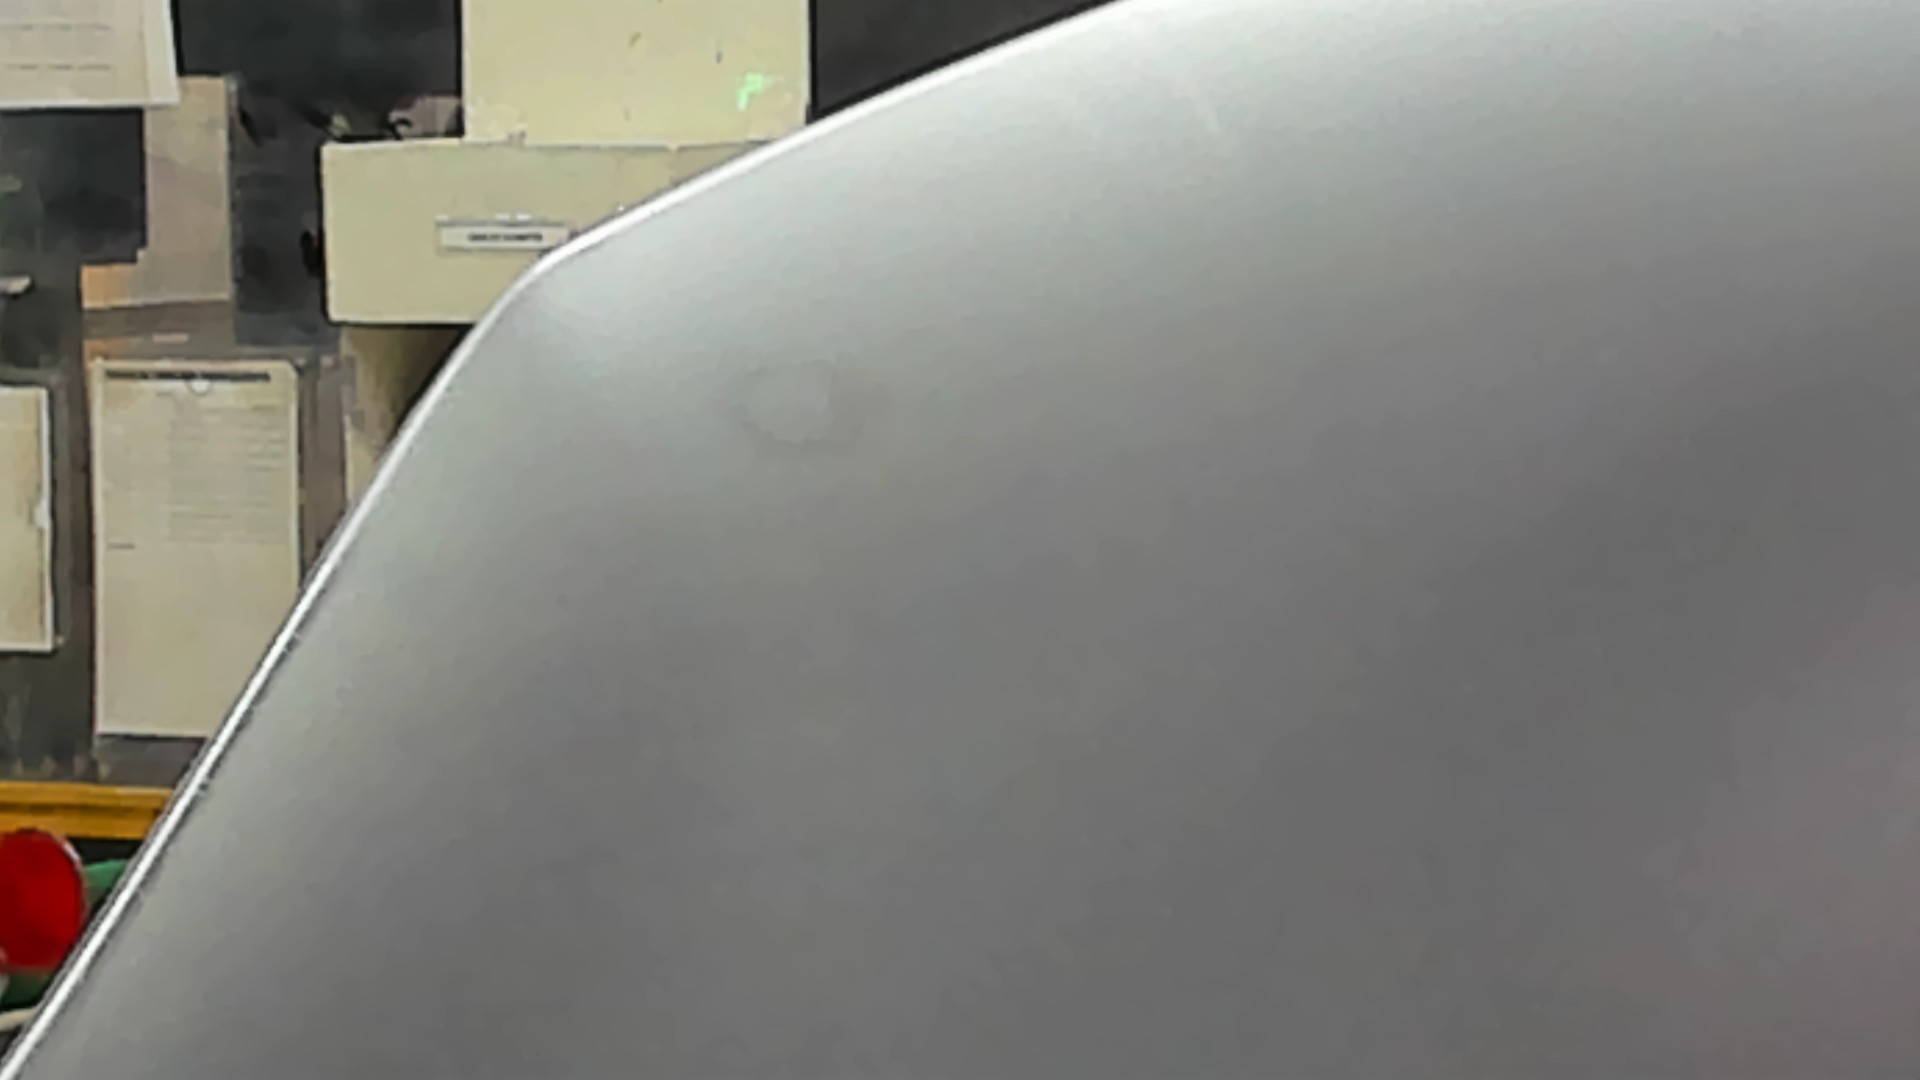capo: (707, 196, 1920, 1080)
